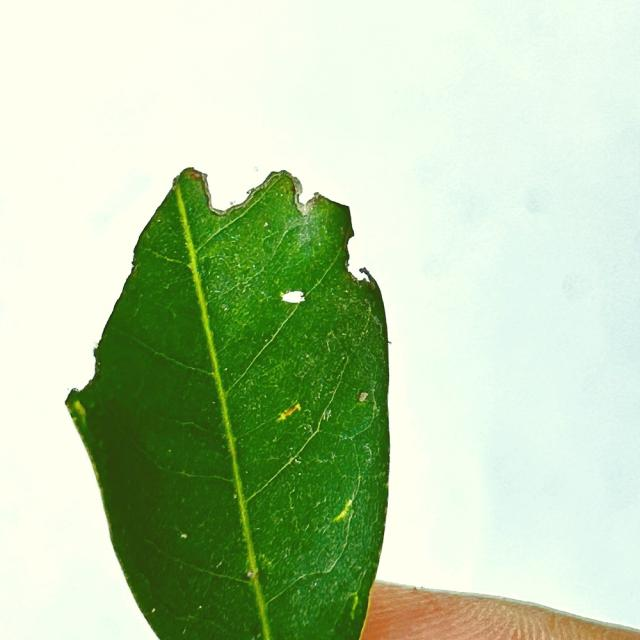Deficiency Leaf: (78, 171, 147, 358), (193, 150, 284, 207), (280, 280, 307, 305)
Lychee: (66, 168, 387, 639)
